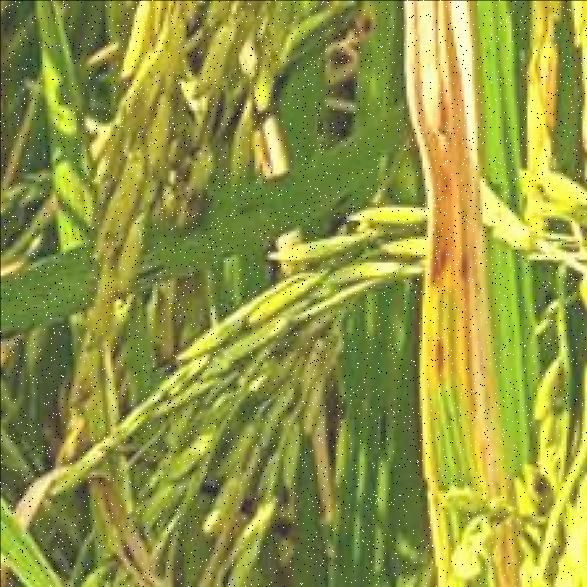Bacteria_Leaf_Blight: (380, 3, 519, 511)
